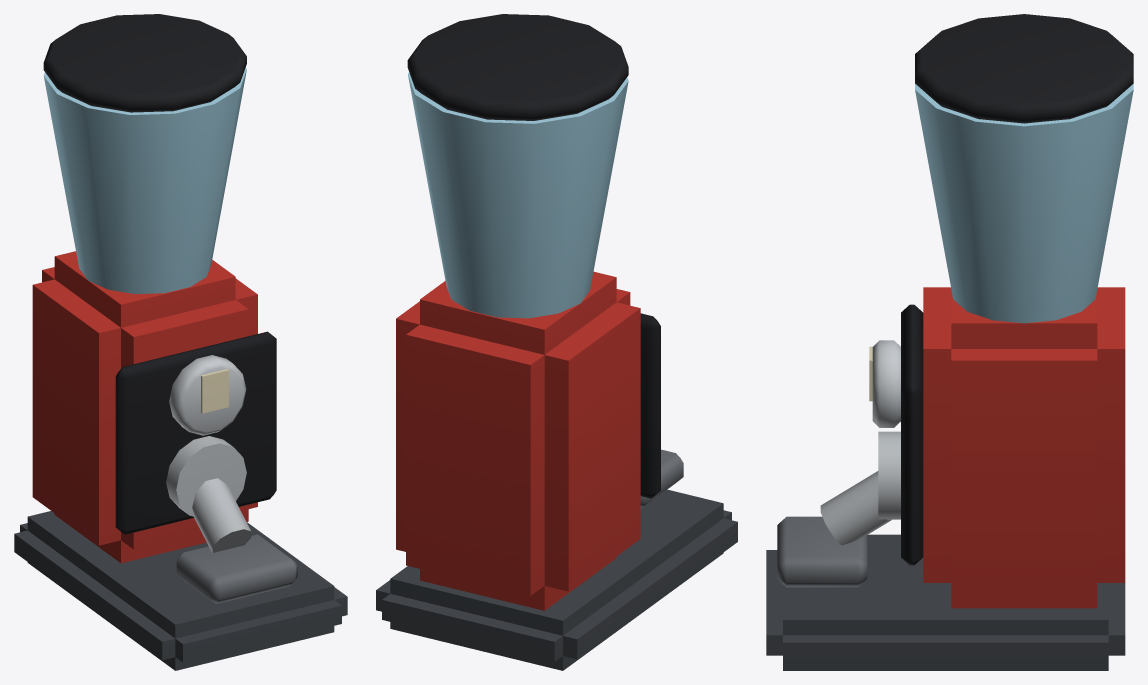
The model's file is SM_Coffee_Grinder_01.glb.
3 views of the same model, side by side, from view 1: azimuth 30°, elevation 25°; view 2: azimuth 150°, elevation 25°; view 3: azimuth 270°, elevation 25° (orthographic). The views are drawn at different scales.
Parts seen in each view (by area): view 1: SM_Coffee_Grinder_01; view 2: SM_Coffee_Grinder_01; view 3: SM_Coffee_Grinder_01.
Part boxes in pixels (x1=…): SM_Coffee_Grinder_01: x1=14, y1=14, x2=347, y2=670; SM_Coffee_Grinder_01: x1=376, y1=14, x2=737, y2=670; SM_Coffee_Grinder_01: x1=766, y1=14, x2=1133, y2=670.
Bounding box in the file's own units: 0.21 × 0.56 × 0.3275.
Materials: 1 (1 with a texture image).
